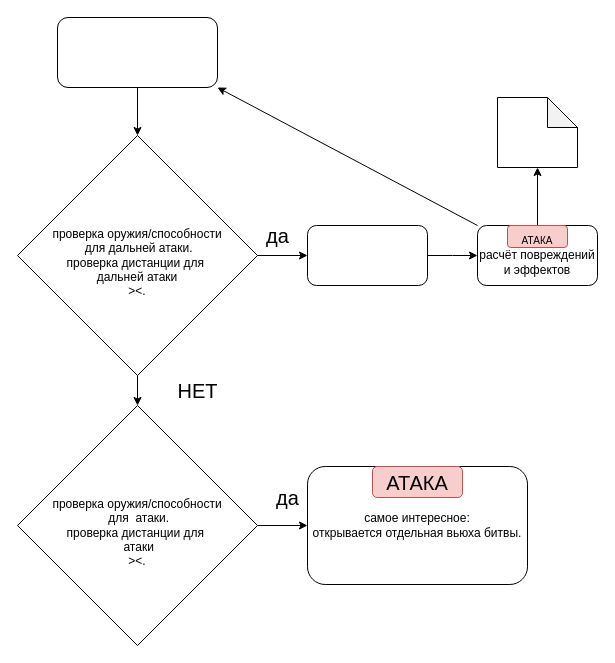
This 615x663 diagram has some shape labels left out. The centre of each missing label's shape, as x and y in pixels:
"выбор оружия/способности" goes at (137,52).
"выбор оружия/способности для атаки" goes at (367,255).
"Данные" goes at (537,132).
